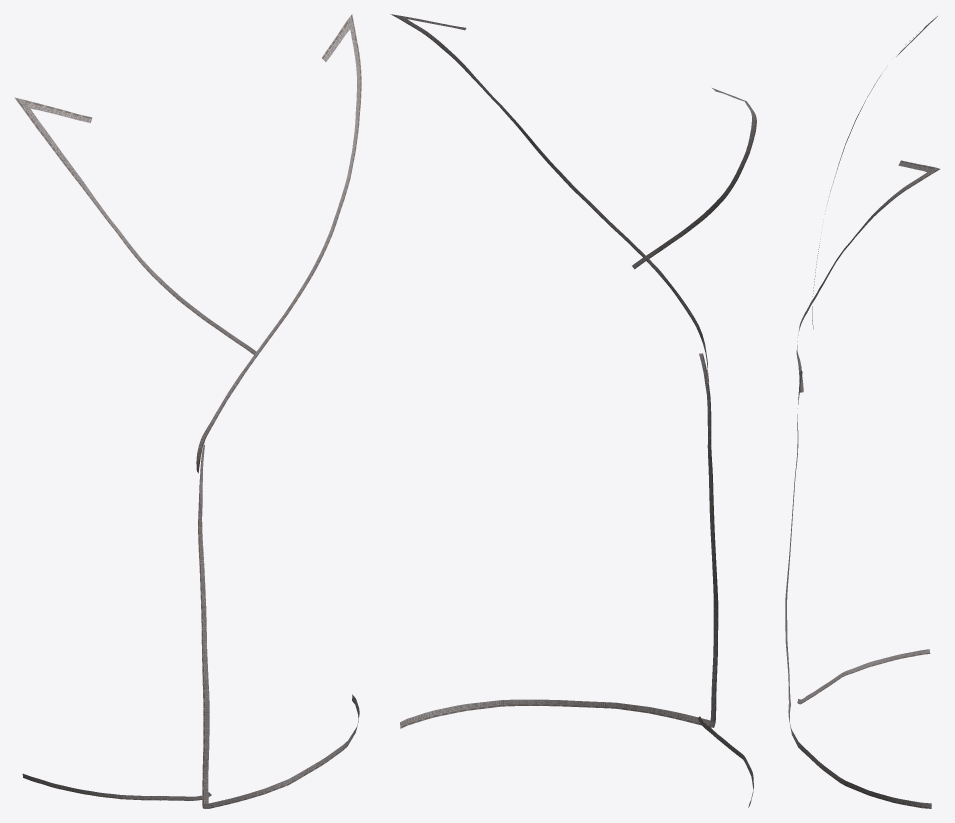
File: peak_double_breasted_wide_AMF 2mm.glb
The picture shows the model from 3 angles, left to right: view 1: azimuth 30°, elevation 25°; view 2: azimuth 150°, elevation 25°; view 3: azimuth 270°, elevation 25°; orthographic projection. The views are drawn at different scales.
Visible parts, largest first — view 1: peak_double_breasted_wide_AMF1; view 2: peak_double_breasted_wide_AMF1; view 3: peak_double_breasted_wide_AMF1.
Boxes of the visible parts, <box> form: peak_double_breasted_wide_AMF1: <box>14,14,361,808</box>; peak_double_breasted_wide_AMF1: <box>390,14,756,807</box>; peak_double_breasted_wide_AMF1: <box>785,16,940,808</box>.
Size of the model in its own units: 0.0489 by 0.0942 by 0.0207.
1 material, 1 textured.
